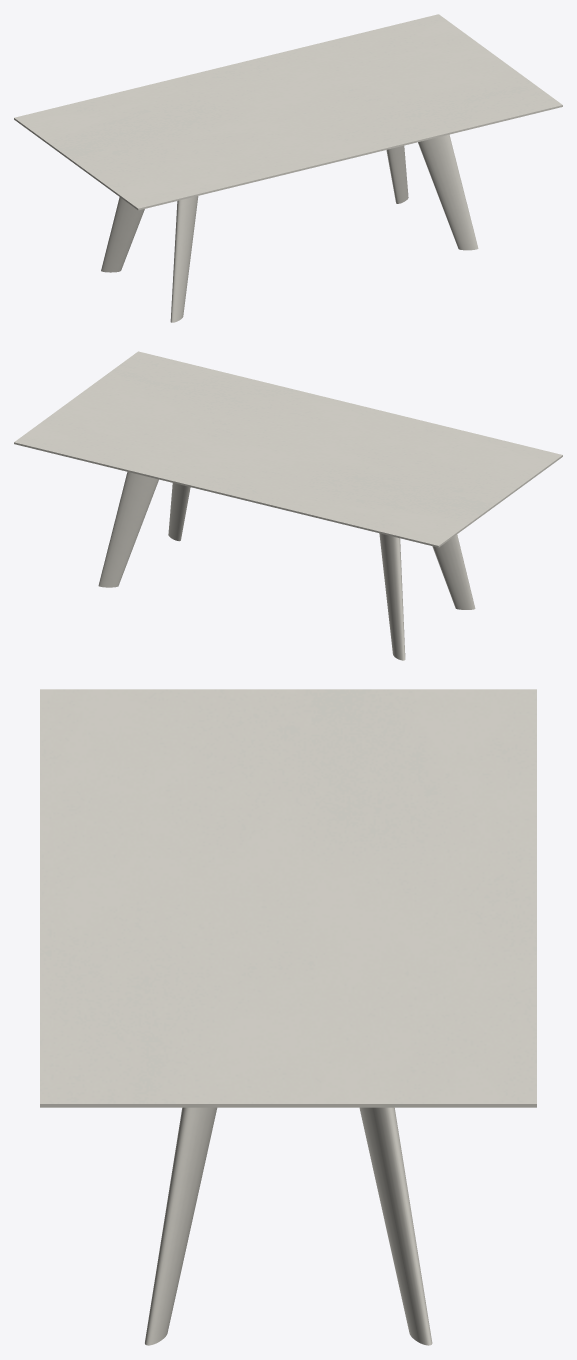
File: pale_recta_facet_ferdinantwalnut.glb
3 views of the same model, one above another, from view 1: azimuth 30°, elevation 25°; view 2: azimuth 150°, elevation 25°; view 3: azimuth 270°, elevation 25° (orthographic). The views are drawn at different scales.
Parts seen in each view (by area): view 1: facet_recta, ferdinandwalnut; view 2: facet_recta, ferdinandwalnut; view 3: facet_recta, ferdinandwalnut.
Boxes of the visible parts, x1=… form: facet_recta: x1=14, y1=14, x2=562, y2=210; ferdinandwalnut: x1=101, y1=134, x2=478, y2=322; facet_recta: x1=14, y1=351, x2=562, y2=547; ferdinandwalnut: x1=98, y1=472, x2=475, y2=660; facet_recta: x1=40, y1=689, x2=536, y2=1107; ferdinandwalnut: x1=145, y1=1107, x2=432, y2=1345.
Bounding box in the file's own units: 7.5 × 2.51 × 3.8.
Materials: 1 (1 with a texture image).
